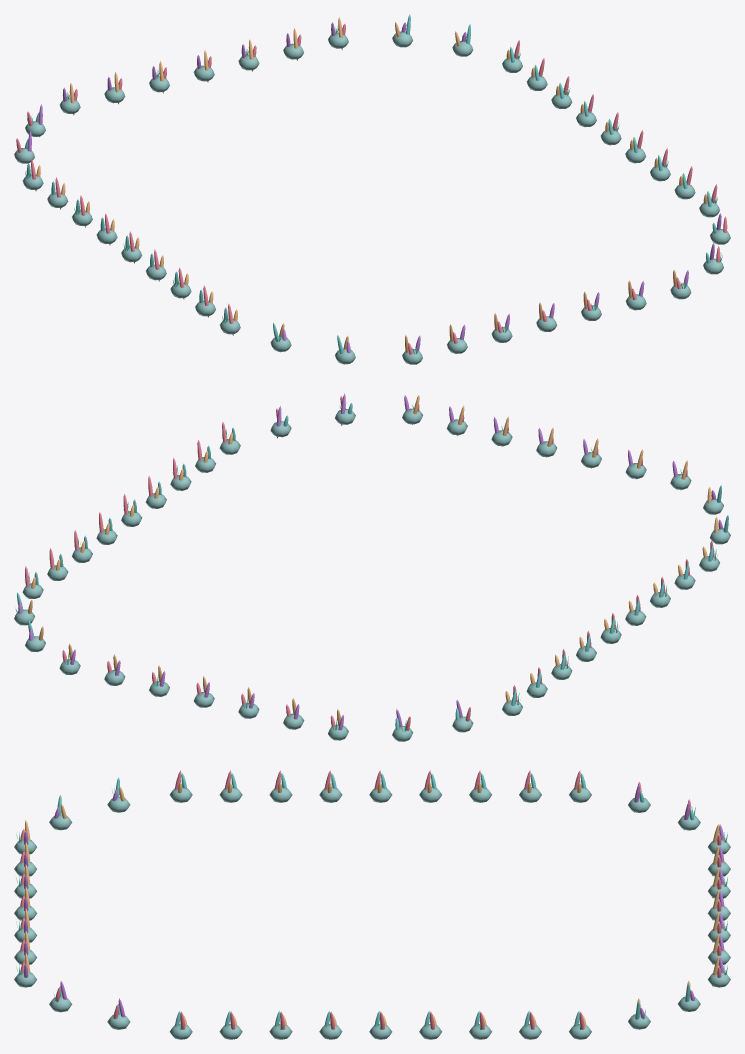
Rendered from reef-20-DKKpkGsQ.glb.
3 renders of one model, top to bottom at view 1: azimuth 30°, elevation 25°; view 2: azimuth 150°, elevation 25°; view 3: azimuth 270°, elevation 25°, orthographic.
Visible parts, largest first — view 1: ReefRock, Coral0, Coral2, Coral3, Coral1; view 2: ReefRock, Coral2, Coral0, Coral3, Coral1; view 3: ReefRock, Coral0, Coral2, Coral3, Coral1.
Part boxes in pixels (x1,y1,x2,y2): ReefRock: [14, 31, 730, 364]; Coral0: [16, 23, 727, 354]; Coral2: [36, 17, 707, 352]; Coral3: [25, 14, 717, 364]; Coral1: [27, 22, 721, 353]; ReefRock: [14, 408, 730, 741]; Coral2: [28, 395, 718, 725]; Coral0: [25, 396, 714, 730]; Coral3: [17, 403, 728, 729]; Coral1: [18, 393, 722, 730]; ReefRock: [14, 787, 730, 1039]; Coral0: [20, 770, 721, 1039]; Coral2: [25, 782, 719, 1025]; Coral3: [57, 773, 694, 1029]; Coral1: [24, 784, 724, 1028].
Bounding box in the file's own units: 35 × 2.06 × 43.1.
